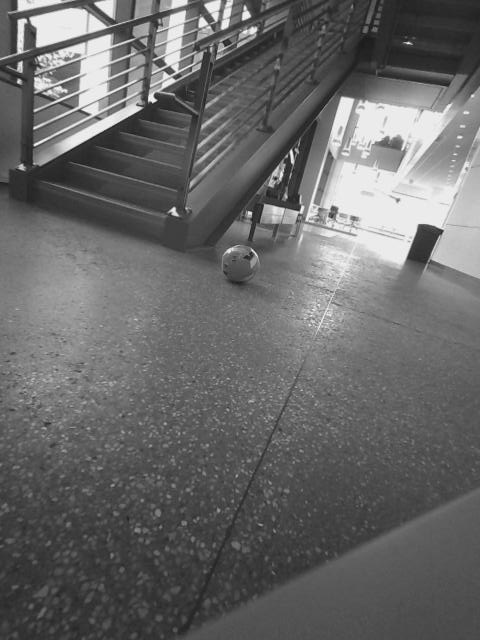ball: (219, 242, 262, 284)
